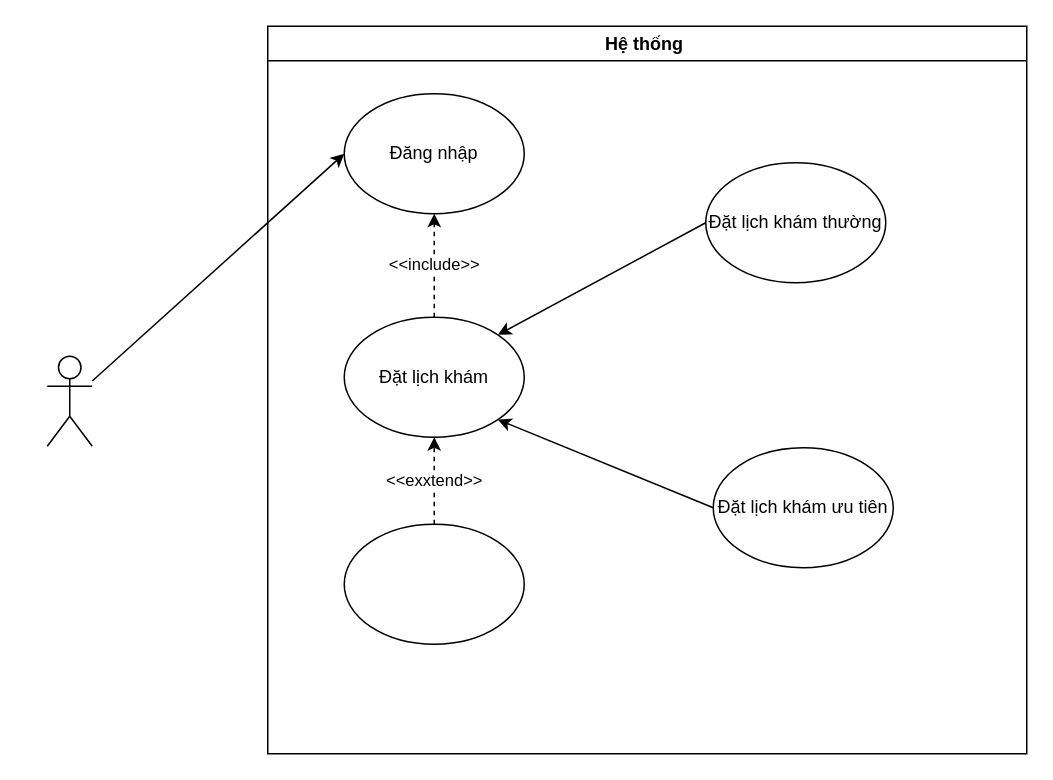
Some shapes in this 1053 by 780 pixel diagram are drawn without their labels. The centre of each missing label's shape, as x and y in pixels:
"Bệnh nhân" belongs at [69,400].
"Chọn bác sĩ chỉ định" belongs at [433,583].
